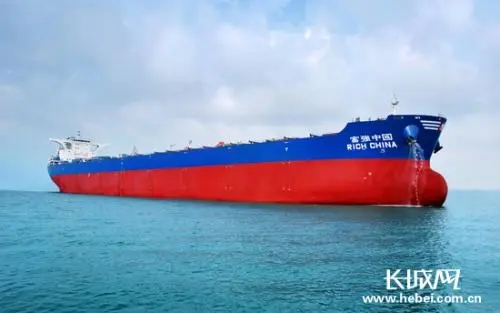Cargoship: (46, 93, 454, 206)
